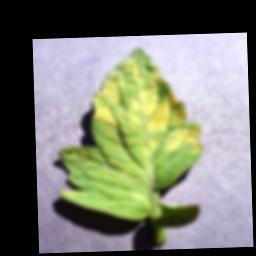Leaf_Mold: (88, 46, 203, 160)
